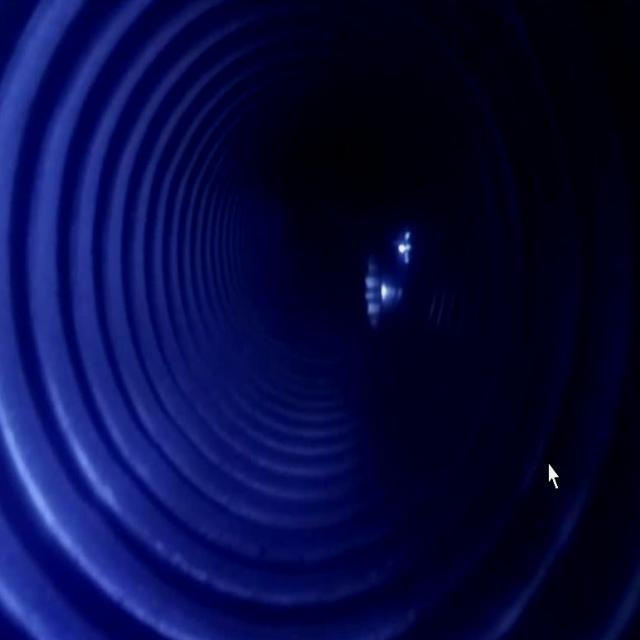metal piece: (359, 223, 436, 349)
